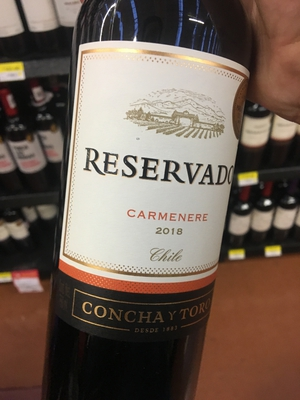reservado carmenere: (55, 3, 254, 400)
